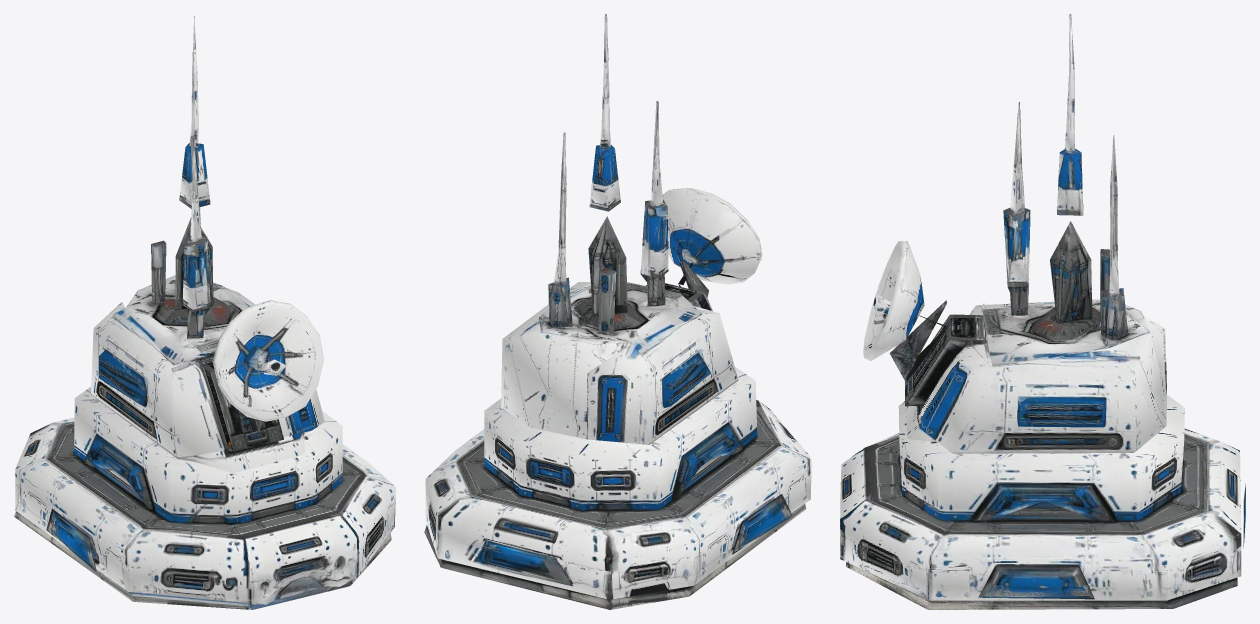
The model's file is gun2.glb.
3 renders of one model, left to right at view 1: azimuth 30°, elevation 25°; view 2: azimuth 150°, elevation 25°; view 3: azimuth 270°, elevation 25°, orthographic. The views are drawn at different scales.
Parts seen in each view (by area): view 1: mesh_node; view 2: mesh_node; view 3: mesh_node.
Boxes of the visible parts, x1,y1,x2,y2 form: mesh_node: (14, 16, 395, 609); mesh_node: (424, 14, 811, 609); mesh_node: (840, 14, 1245, 609).
Size of the model in its own units: 0.5801 by 0.9961 by 0.6895.
Materials: 1 (1 with a texture image).
